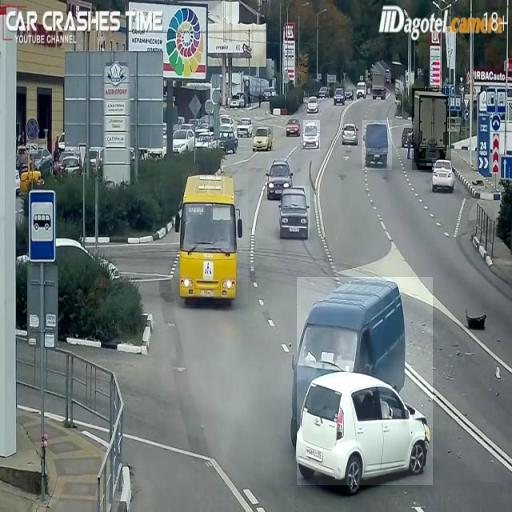小汽车: (182, 174, 248, 304), (412, 88, 451, 170), (280, 186, 310, 237), (362, 120, 392, 170), (268, 158, 291, 198), (432, 160, 457, 194), (303, 120, 320, 150), (253, 126, 273, 151)
小汽车撞小汽车: (298, 277, 434, 485)
